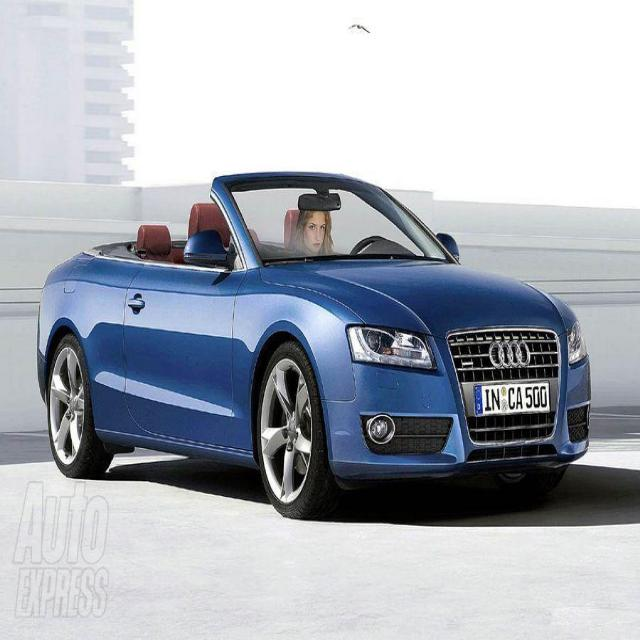Car: (26, 146, 594, 521)
